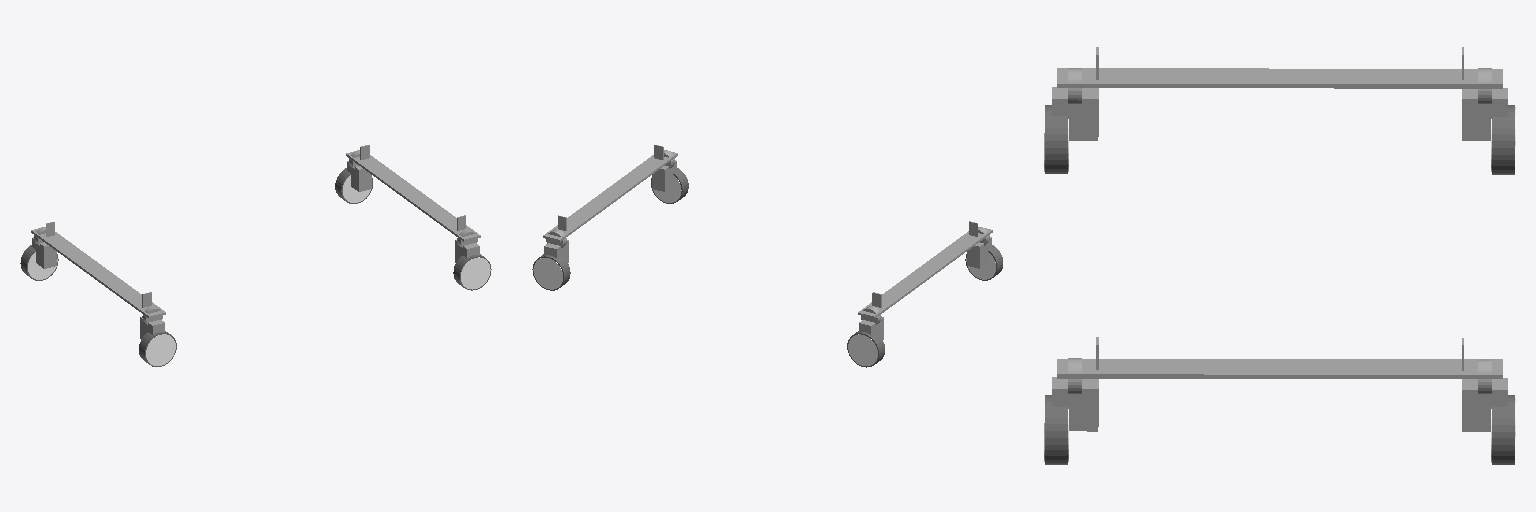
robot.urdf — bookcase:
<robot name="bookcase">
    <link name="base_footprint">
      <inertial>
        <origin
            xyz="0 0 0"
            rpy="0 0 0" />
        <mass
            value="0.1" />
        <inertia
            ixx="1"
            ixy="0"
            ixz="0"
            iyy="1"
            iyz="0"
            izz="1" />
      </inertial>
    </link>

    <link name="bookcase">
        <visual>
            <geometry>
                <mesh filename="bookcase.stl"/>
            </geometry>
        </visual>
        <collision>
            <geometry>
                <mesh filename="bookcase.stl"/>
            </geometry>
        </collision>
    </link>

    # Copied from wheels.urdf.
    <link name="r_wheel_link">
        <collision>
          <origin xyz="-0.0 -0.0025 0.0" />
          <geometry>
            <box size="0.04 0.005 0.48" />
          </geometry>
        </collision>
        <visual>
          <origin xyz="-0.0 -0.0025 0.0" />
          <material name="c">
            <color rgba="0.7 0.7 0.7 1.0" />
          </material>
          <geometry>
            <box size="0.04 0.005 0.48" />
          </geometry>
        </visual>
        <collision>
          <origin xyz="0.0 0.015 0.19625" />
          <geometry>
            <box size="0.02 0.03 0.0025" />
          </geometry>
        </collision>
        <visual>
          <origin xyz="0.0 0.015 0.19625" />
          <material name="c">
            <color rgba="0.7 0.7 0.7 1.0" />
          </material>
          <geometry>
            <box size="0.02 0.03 0.0025" />
          </geometry>
        </visual>
        <collision>
          <origin xyz="0.0 0.015 -0.19625" />
          <geometry>
            <box size="0.02 0.03 0.0025" />
          </geometry>
        </collision>
        <visual>
          <origin xyz="0.0 0.015 -0.19625" />
          <material name="c">
            <color rgba="0.7 0.7 0.7 1.0" />
          </material>
          <geometry>
            <box size="0.02 0.03 0.0025" />
          </geometry>
        </visual>
        <collision>
          <origin xyz="0.0 -0.0125 0.22" />
          <geometry>
            <cylinder length="0.015" radius="0.02" />
          </geometry>
        </collision>
        <visual>
          <origin xyz="0.0 -0.0125 0.22" />
          <material name="c">
            <color rgba="0.7 0.7 0.7 1.0" />
          </material>
          <geometry>
            <cylinder length="0.015" radius="0.02" />
          </geometry>
        </visual>
        <collision>
          <origin xyz="0.0 -0.0125 -0.22" />
          <geometry>
            <cylinder length="0.015" radius="0.02" />
          </geometry>
        </collision>
        <visual>
          <origin xyz="0.0 -0.0125 -0.22" />
          <material name="c">
            <color rgba="0.7 0.7 0.7 1.0" />
          </material>
          <geometry>
            <cylinder length="0.015" radius="0.02" />
          </geometry>
        </visual>
        <collision>
          <origin xyz="0.0 -0.075 -0.24" />
          <geometry>
            <cylinder length="0.026" radius="0.035" />
          </geometry>
        </collision>
        <visual>
          <origin xyz="0.0 -0.075 -0.24" />
          <material name="c">
            <color rgba="1.0 1.0 1.0 1.0" />
          </material>
          <geometry>
            <cylinder length="0.026" radius="0.035" />
          </geometry>
        </visual>
        <collision>
          <origin xyz="0.0 -0.075 -0.24" />
          <geometry>
            <cylinder length="0.025" radius="0.0375" />
          </geometry>
        </collision>
        <visual>
          <origin xyz="0.0 -0.075 -0.24" />
          <material name="c">
            <color rgba="0.5 0.5 0.5 1.0" />
          </material>
          <geometry>
            <cylinder length="0.025" radius="0.0375" />
          </geometry>
        </visual>
        <collision>
          <origin xyz="0.0 -0.045 -0.22" />
          <geometry>
            <box size="0.03 0.05 0.05" />
          </geometry>
        </collision>
        <visual>
          <origin xyz="0.0 -0.045 -0.22" />
          <material name="c">
            <color rgba="0.7 0.7 0.7 1.0" />
          </material>
          <geometry>
            <box size="0.03 0.05 0.05" />
          </geometry>
        </visual>
        <collision>
          <origin xyz="0.0 -0.075 0.24" />
          <geometry>
            <cylinder length="0.026" radius="0.035" />
          </geometry>
        </collision>
        <visual>
          <origin xyz="0.0 -0.075 0.24" />
          <material name="c">
            <color rgba="1.0 1.0 1.0 1.0" />
          </material>
          <geometry>
            <cylinder length="0.026" radius="0.035" />
          </geometry>
        </visual>
        <collision>
          <origin xyz="0.0 -0.075 0.24" />
          <geometry>
            <cylinder length="0.025" radius="0.0375" />
          </geometry>
        </collision>
        <visual>
          <origin xyz="0.0 -0.075 0.24" />
          <material name="c">
            <color rgba="0.5 0.5 0.5 1.0" />
          </material>
          <geometry>
            <cylinder length="0.025" radius="0.0375" />
          </geometry>
        </visual>
        <collision>
          <origin xyz="0.0 -0.045 0.22" />
          <geometry>
            <box size="0.03 0.05 0.05" />
          </geometry>
        </collision>
        <visual>
          <origin xyz="0.0 -0.045 0.22" />
          <material name="c">
            <color rgba="0.7 0.7 0.7 1.0" />
          </material>
          <geometry>
            <box size="0.03 0.05 0.05" />
          </geometry>
        </visual>
    </link>

    # Copied from wheels.urdf.
    <link name="l_wheel_link">
        <collision>
          <origin xyz="-0.0 -0.0025 0.0" />
          <geometry>
            <box size="0.04 0.005 0.48" />
          </geometry>
        </collision>
        <visual>
          <origin xyz="-0.0 -0.0025 0.0" />
          <material name="c">
            <color rgba="0.7 0.7 0.7 1.0" />
          </material>
          <geometry>
            <box size="0.04 0.005 0.48" />
          </geometry>
        </visual>
        <collision>
          <origin xyz="0.0 0.015 0.19625" />
          <geometry>
            <box size="0.02 0.03 0.0025" />
          </geometry>
        </collision>
        <visual>
          <origin xyz="0.0 0.015 0.19625" />
          <material name="c">
            <color rgba="0.7 0.7 0.7 1.0" />
          </material>
          <geometry>
            <box size="0.02 0.03 0.0025" />
          </geometry>
        </visual>
        <collision>
          <origin xyz="0.0 0.015 -0.19625" />
          <geometry>
            <box size="0.02 0.03 0.0025" />
          </geometry>
        </collision>
        <visual>
          <origin xyz="0.0 0.015 -0.19625" />
          <material name="c">
            <color rgba="0.7 0.7 0.7 1.0" />
          </material>
          <geometry>
            <box size="0.02 0.03 0.0025" />
          </geometry>
        </visual>
        <collision>
          <origin xyz="0.0 -0.0125 0.22" />
          <geometry>
            <cylinder length="0.015" radius="0.02" />
          </geometry>
        </collision>
        <visual>
          <origin xyz="0.0 -0.0125 0.22" />
          <material name="c">
            <color rgba="0.7 0.7 0.7 1.0" />
          </material>
          <geometry>
            <cylinder length="0.015" radius="0.02" />
          </geometry>
        </visual>
        <collision>
          <origin xyz="0.0 -0.0125 -0.22" />
          <geometry>
            <cylinder length="0.015" radius="0.02" />
          </geometry>
        </collision>
        <visual>
          <origin xyz="0.0 -0.0125 -0.22" />
          <material name="c">
            <color rgba="0.7 0.7 0.7 1.0" />
          </material>
          <geometry>
            <cylinder length="0.015" radius="0.02" />
          </geometry>
        </visual>
        <collision>
          <origin xyz="0.0 -0.075 -0.24" />
          <geometry>
            <cylinder length="0.026" radius="0.035" />
          </geometry>
        </collision>
        <visual>
          <origin xyz="0.0 -0.075 -0.24" />
          <material name="c">
            <color rgba="1.0 1.0 1.0 1.0" />
          </material>
          <geometry>
            <cylinder length="0.026" radius="0.035" />
          </geometry>
        </visual>
        <collision>
          <origin xyz="0.0 -0.075 -0.24" />
          <geometry>
            <cylinder length="0.025" radius="0.0375" />
          </geometry>
        </collision>
        <visual>
          <origin xyz="0.0 -0.075 -0.24" />
          <material name="c">
            <color rgba="0.5 0.5 0.5 1.0" />
          </material>
          <geometry>
            <cylinder length="0.025" radius="0.0375" />
          </geometry>
        </visual>
        <collision>
          <origin xyz="0.0 -0.045 -0.22" />
          <geometry>
            <box size="0.03 0.05 0.05" />
          </geometry>
        </collision>
        <visual>
          <origin xyz="0.0 -0.045 -0.22" />
          <material name="c">
            <color rgba="0.7 0.7 0.7 1.0" />
          </material>
          <geometry>
            <box size="0.03 0.05 0.05" />
          </geometry>
        </visual>
        <collision>
          <origin xyz="0.0 -0.075 0.24" />
          <geometry>
            <cylinder length="0.026" radius="0.035" />
          </geometry>
        </collision>
        <visual>
          <origin xyz="0.0 -0.075 0.24" />
          <material name="c">
            <color rgba="1.0 1.0 1.0 1.0" />
          </material>
          <geometry>
            <cylinder length="0.026" radius="0.035" />
          </geometry>
        </visual>
        <collision>
          <origin xyz="0.0 -0.075 0.24" />
          <geometry>
            <cylinder length="0.025" radius="0.0375" />
          </geometry>
        </collision>
        <visual>
          <origin xyz="0.0 -0.075 0.24" />
          <material name="c">
            <color rgba="0.5 0.5 0.5 1.0" />
          </material>
          <geometry>
            <cylinder length="0.025" radius="0.0375" />
          </geometry>
        </visual>
        <collision>
          <origin xyz="0.0 -0.045 0.22" />
          <geometry>
            <box size="0.03 0.05 0.05" />
          </geometry>
        </collision>
        <visual>
          <origin xyz="0.0 -0.045 0.22" />
          <material name="c">
            <color rgba="0.7 0.7 0.7 1.0" />
          </material>
          <geometry>
            <box size="0.03 0.05 0.05" />
          </geometry>
        </visual>
    </link>

    <joint
        name="base_to_l_wheel"
        type="fixed">
      <origin
          xyz="0.738 0.2 0.1125"
          rpy="1.57 0 0"/>
      <parent
          link="base_footprint" />
      <child
          link="l_wheel_link" />
    </joint>

    <joint
        name="base_to_bookcase"
        type="fixed">
      <origin
          xyz="0.0 0.0 0.1125" />
      <parent
          link="base_footprint" />
      <child
          link="bookcase" />
    </joint>

    <joint
        name="base_to_r_wheel"
        type="fixed">
      <origin
          xyz="0 0.2 0.1125"
          rpy="1.57 0 0" />
      <parent
          link="base_footprint" />
      <child
          link="r_wheel_link" />
    </joint>

</robot>

--- What the picture shows (computed from the rendered views, not written in the file) ---
3 views of the same robot in one strip: view 1: azimuth 30°, elevation 25°; view 2: azimuth 150°, elevation 25°; view 3: azimuth 270°, elevation 25° (orthographic).
Model bookcase with 4 links and 3 joints (3 fixed), rooted at base_footprint, posed every joint at zero.
Visible links, largest first — view 1: r_wheel_link, l_wheel_link; view 2: r_wheel_link, l_wheel_link; view 3: l_wheel_link, r_wheel_link.
Link boxes in pixels (<box>): r_wheel_link: <box>20,222,176,366</box>; l_wheel_link: <box>335,145,491,290</box>; r_wheel_link: <box>847,221,1002,367</box>; l_wheel_link: <box>532,145,688,290</box>; l_wheel_link: <box>1044,337,1515,464</box>; r_wheel_link: <box>1044,47,1515,174</box>.
Bounding box of the posed robot: 0.813 × 0.5061 × 0.1429 m (x, y, z).
0 mesh visuals loaded from 1 distinct referenced files (none loaded); not drawn: 1 (reference not matched to a file when rendering).
